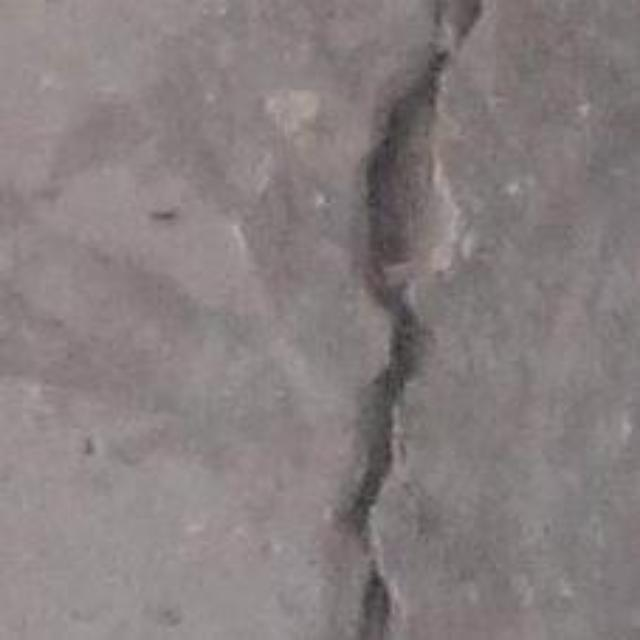crack: (342, 0, 482, 639)
